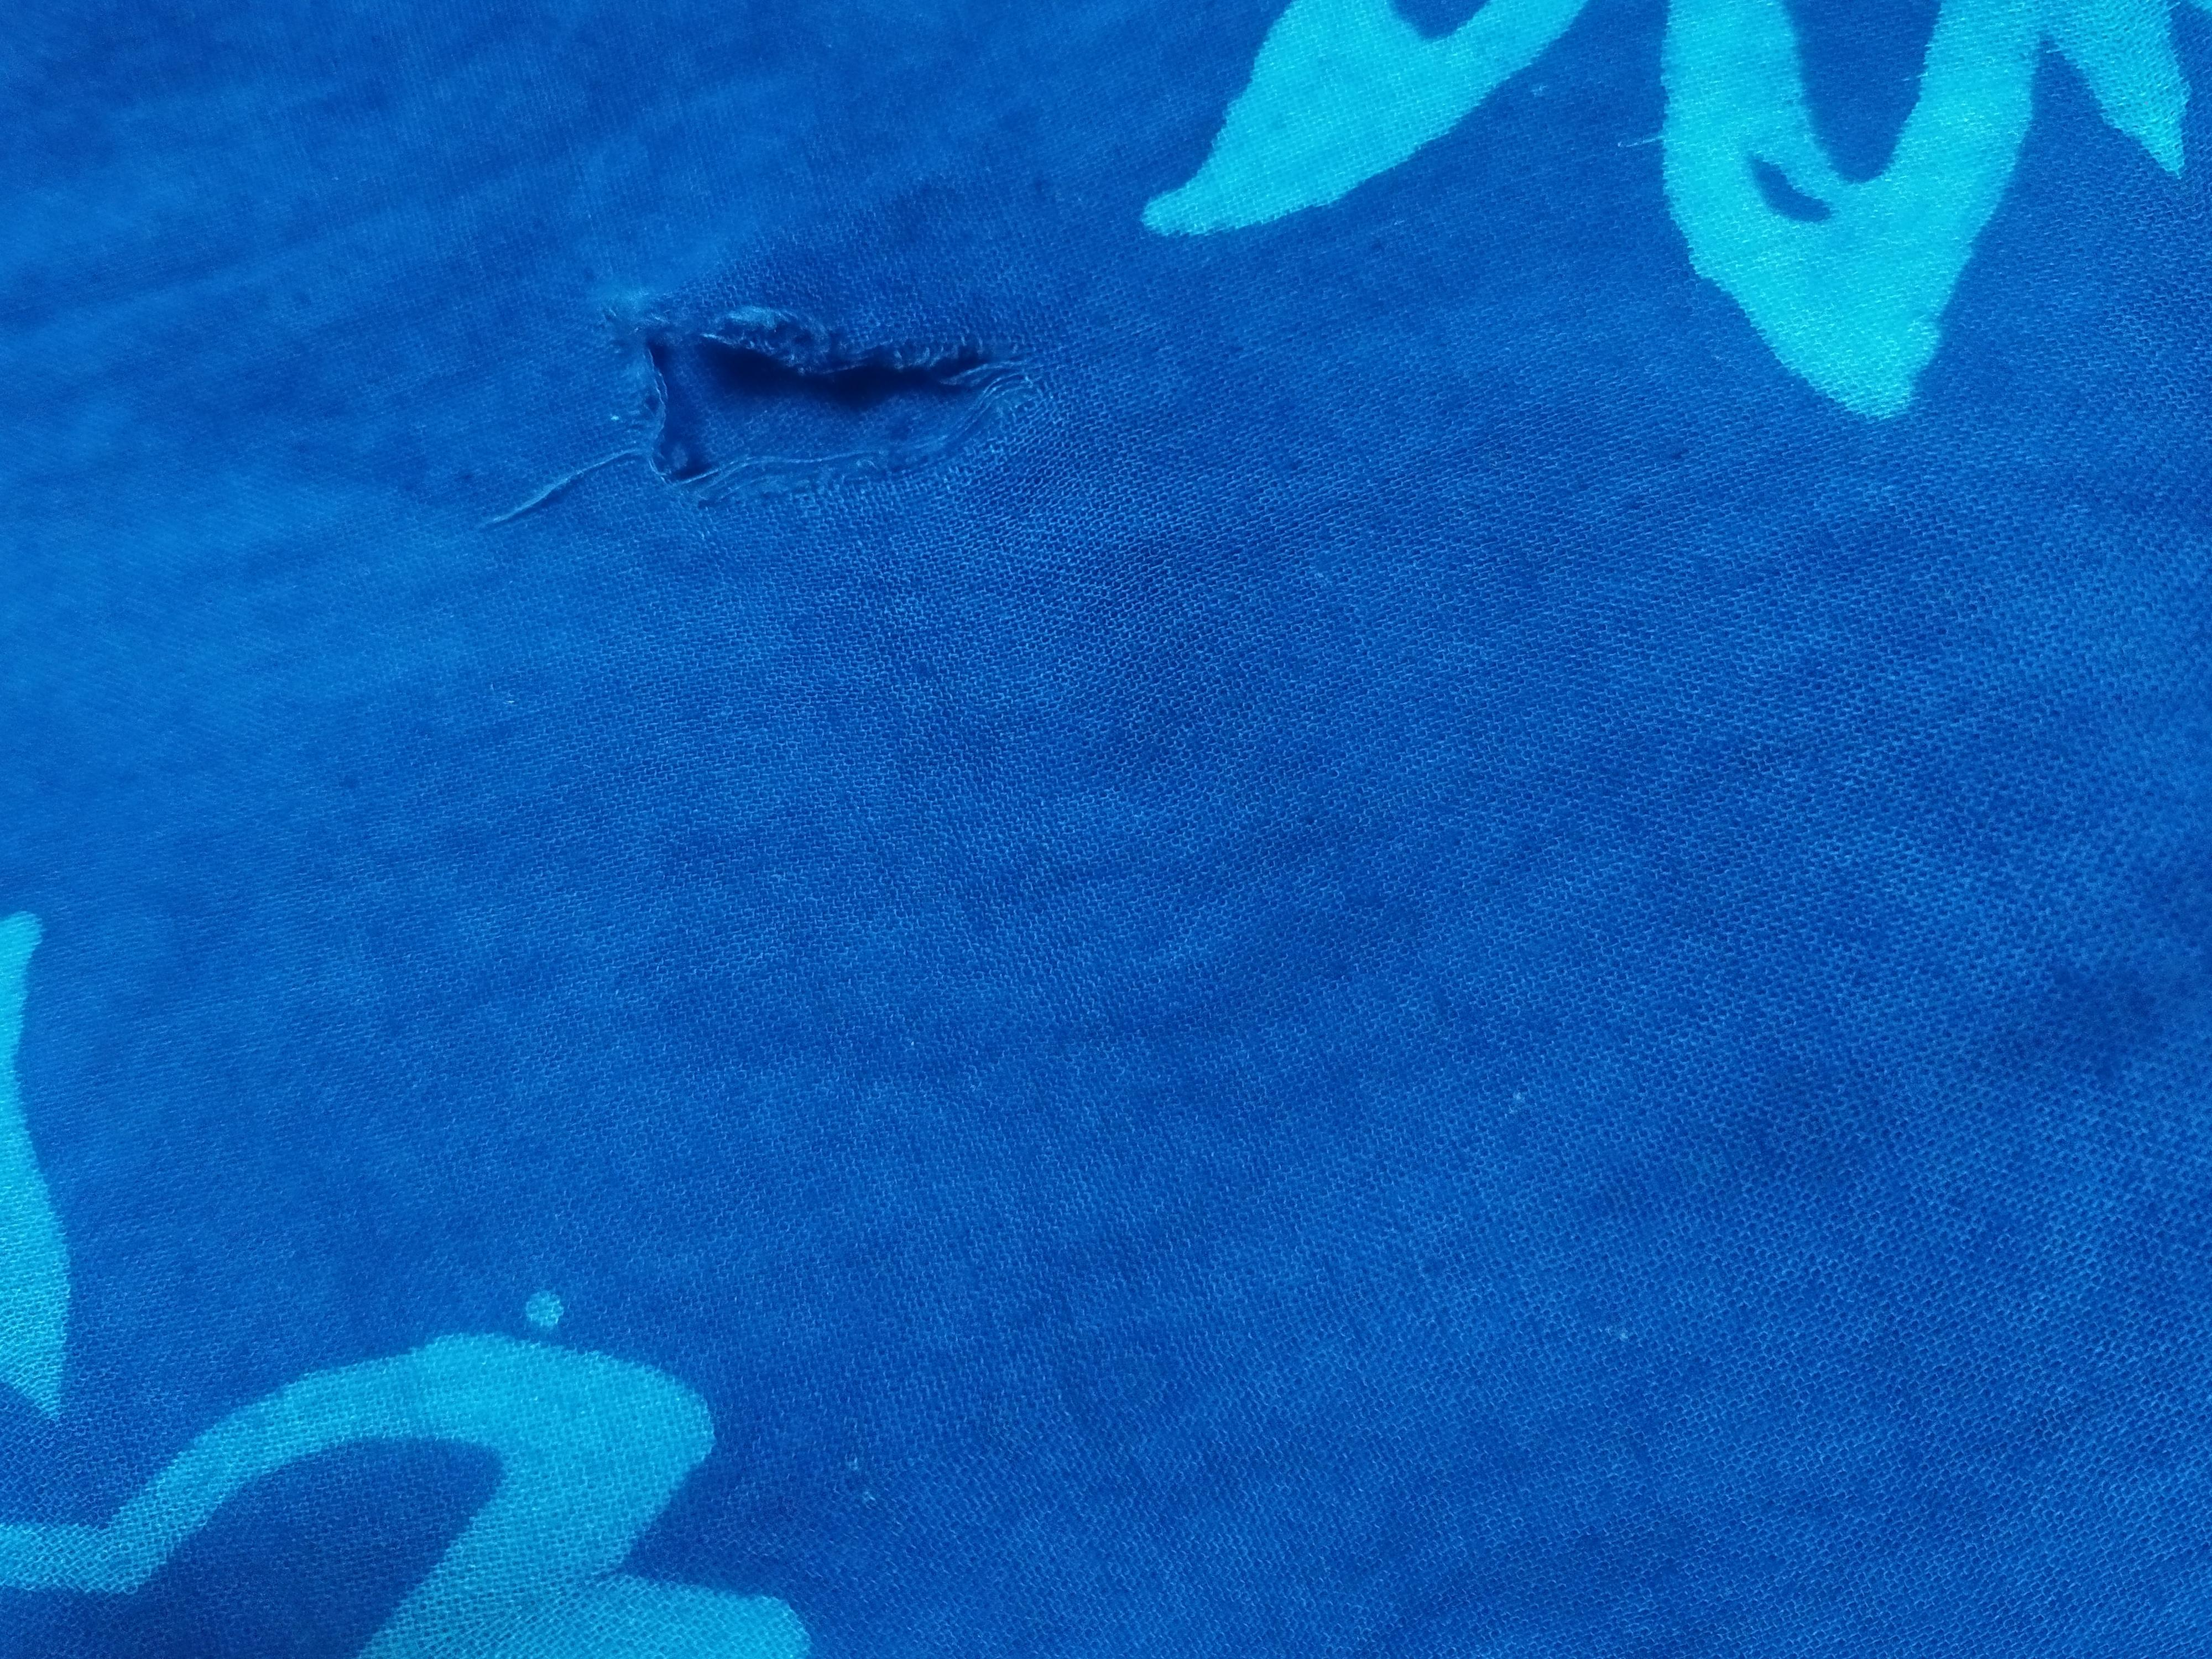hole: (582, 263, 1055, 532)
